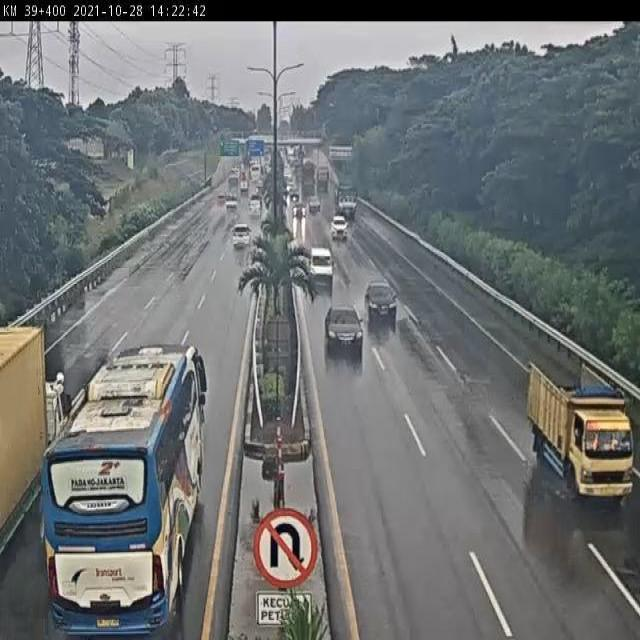bus-l-: (41, 343, 209, 636)
truck-s-: (529, 360, 637, 500)
